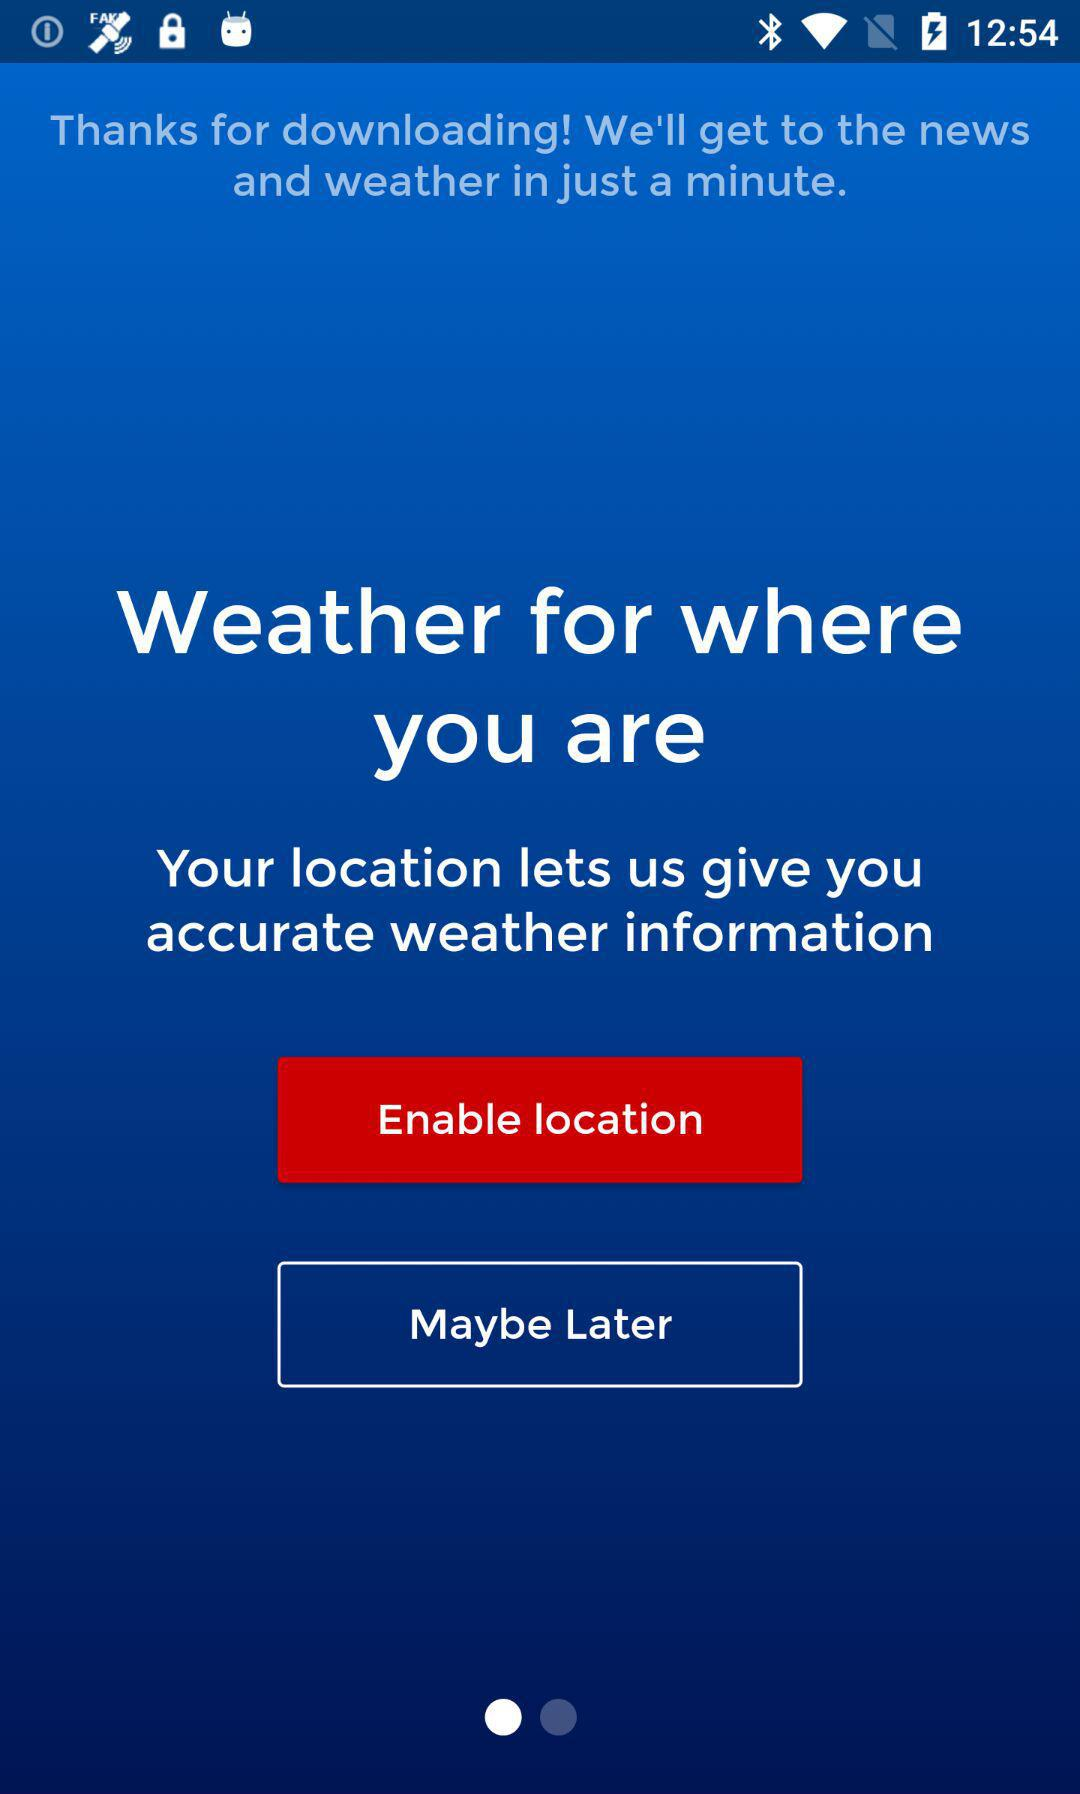PageIndicator: (484, 1697, 579, 1738)
Text: (115, 586, 963, 784), (50, 113, 1030, 206), (147, 846, 933, 953)
TextButton: (277, 1261, 805, 1389), (278, 1056, 803, 1184)
UpperTaskBar: (1, 1, 1080, 64)
